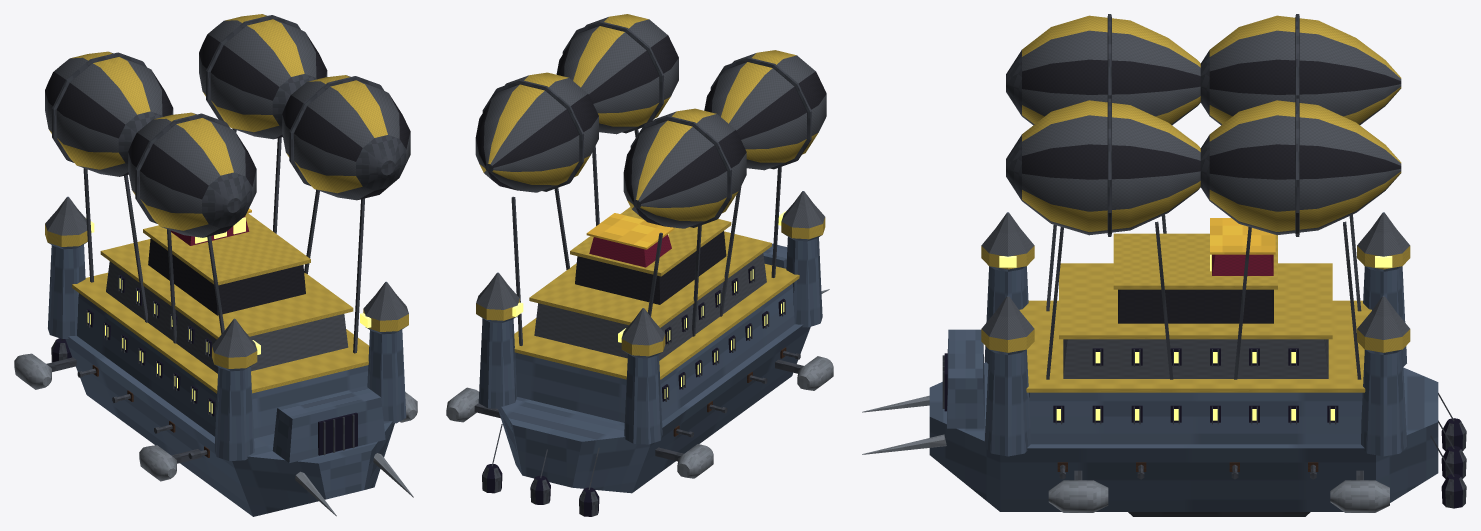
The model's file is SM_Ship_TartarusAloft_HQ.glb.
The picture shows the model from 3 angles, left to right: view 1: azimuth 30°, elevation 25°; view 2: azimuth 150°, elevation 25°; view 3: azimuth 270°, elevation 25°; orthographic projection. The views are drawn at different scales.
Parts seen in each view (by area): view 1: SM_Ship_TartarusAloft_HQ; view 2: SM_Ship_TartarusAloft_HQ; view 3: SM_Ship_TartarusAloft_HQ.
Boxes of the visible parts, <box> form: SM_Ship_TartarusAloft_HQ: <box>14,14,417,516</box>; SM_Ship_TartarusAloft_HQ: <box>446,14,833,516</box>; SM_Ship_TartarusAloft_HQ: <box>862,14,1466,516</box>.
Size of the model in its own units: 21.94 by 30.53 by 38.61.
1 material, 1 textured.
